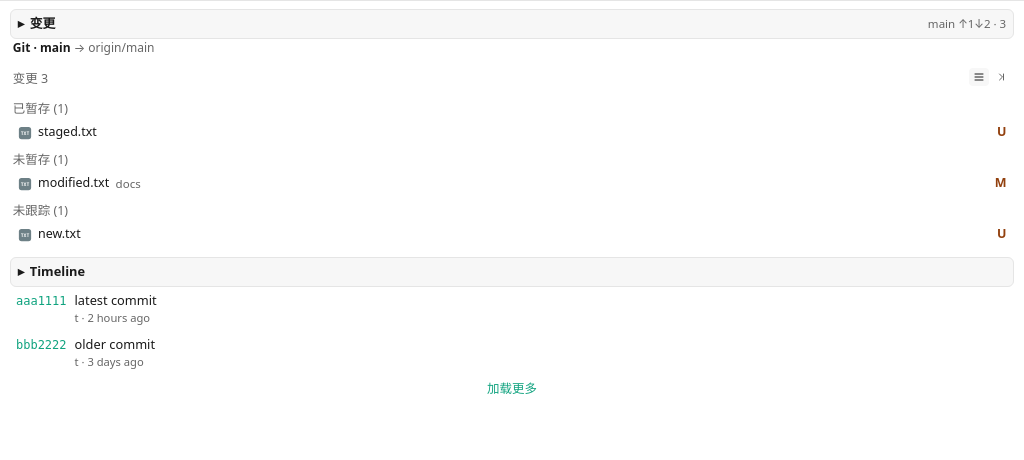
Test: GitPanel 提交文件联动（git-timeline-files F1-F4） › 再点同条提交 → 清单收起（选中态解除）
Expected: the button with class "git-commit" that starts with "aaa1111" is shown, 13,287 -> 1011,331
Click the text "latest commit": (116, 300) 74,291 -> 157,310
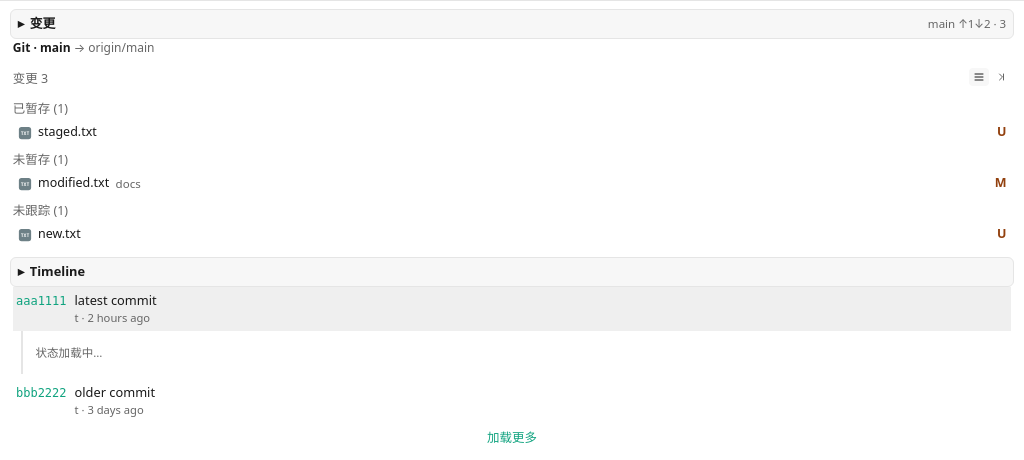
Expected: the element with class "git-commit-files" is shown, 21,331 -> 1011,374
Click the text "latest commit": (116, 300) 74,291 -> 157,310
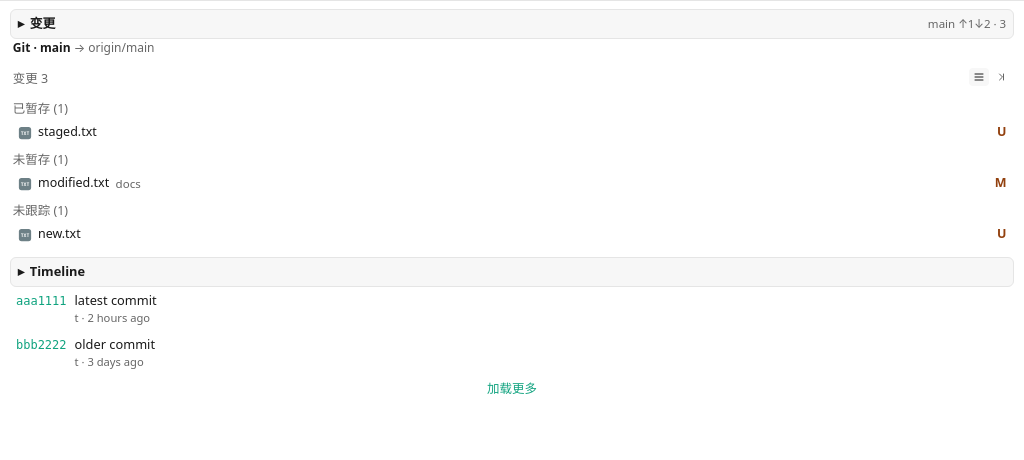
Expected: the element with class "git-commit-files" is gone
